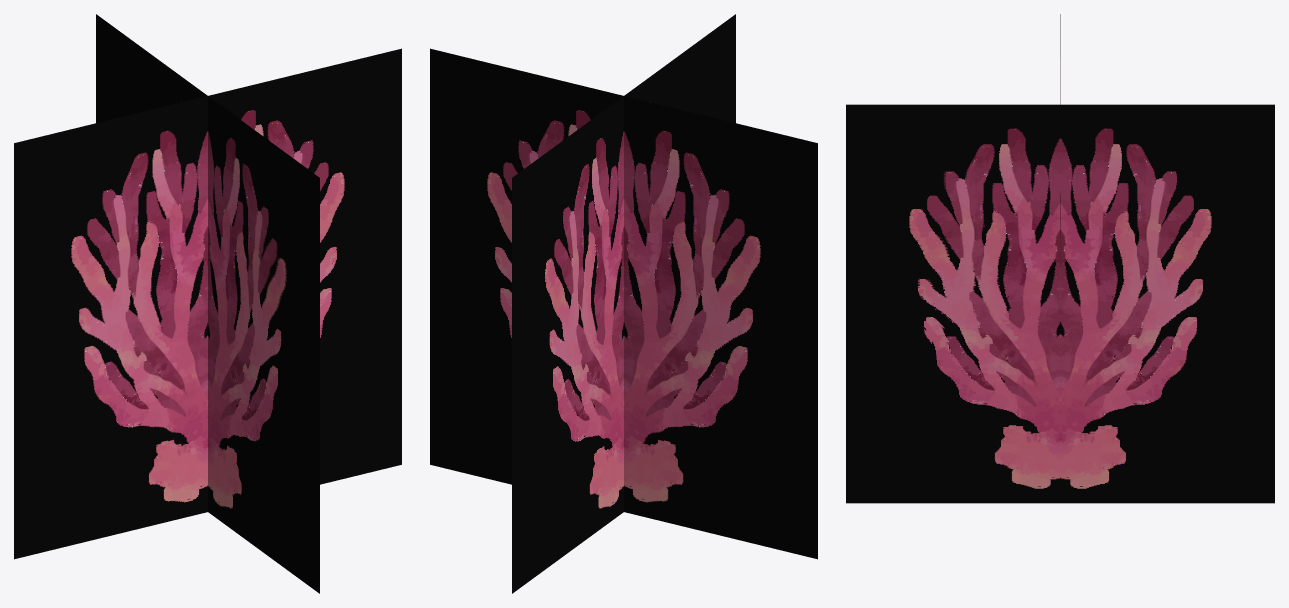
File: Coral (1).fbx
3 renders of one model, left to right at view 1: azimuth 30°, elevation 25°; view 2: azimuth 150°, elevation 25°; view 3: azimuth 270°, elevation 25°, orthographic. The views are drawn at different scales.
Visible parts, largest first — view 1: Plane.005; view 2: Plane.005; view 3: Plane.005.
Part boxes in pixels (x1=…): Plane.005: x1=14, y1=14, x2=401, y2=593; Plane.005: x1=430, y1=14, x2=817, y2=593; Plane.005: x1=846, y1=14, x2=1274, y2=503.
Size of the model in its own units: 503 by 516 by 503.
